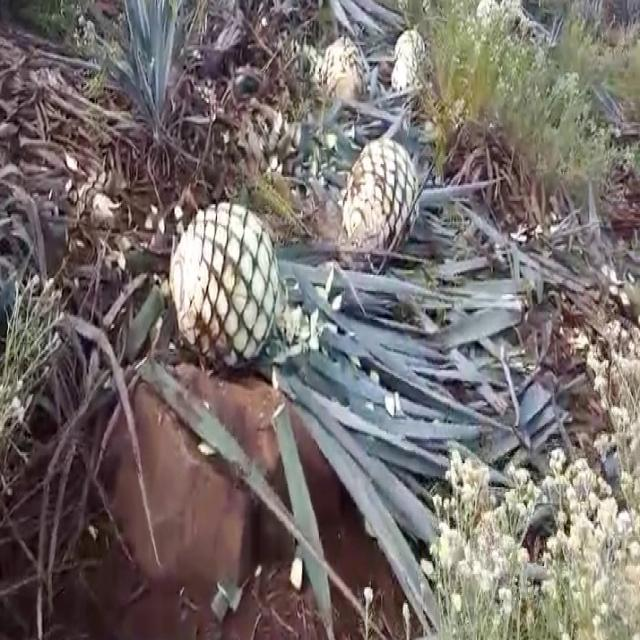agave: (165, 195, 285, 368), (341, 138, 422, 265), (316, 25, 367, 113)
